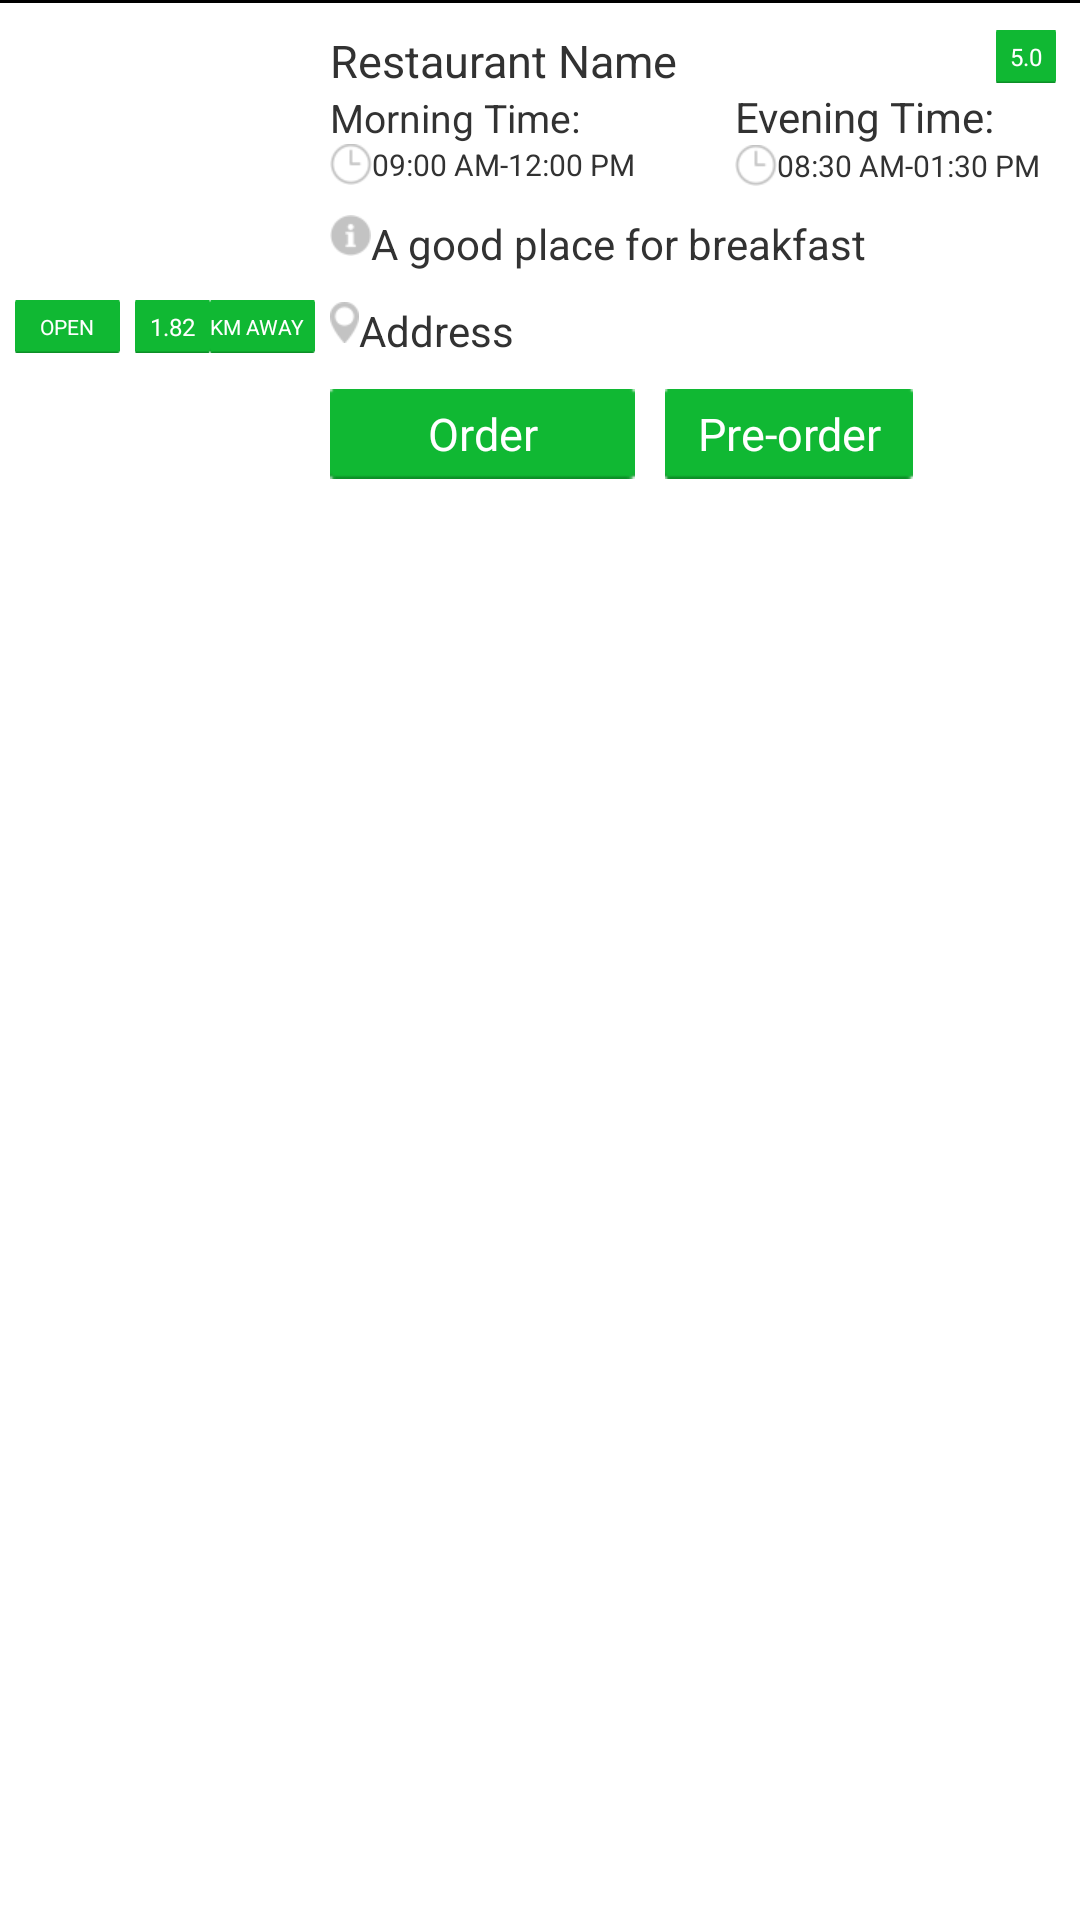

Named icons in this screenshot (1080x1920) and their centers, (x=x, y=y):
info: (x=351, y=235)
timing: (x=351, y=164), (x=756, y=165)
